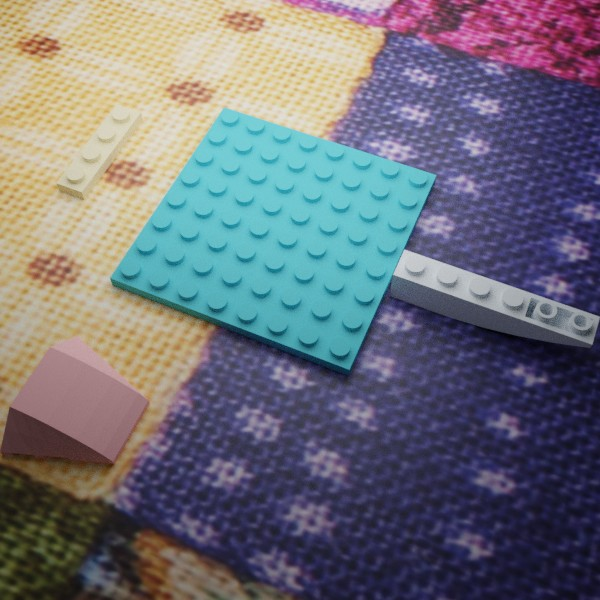lego: (109, 107, 436, 375), (389, 249, 600, 348), (0, 335, 149, 464), (56, 104, 142, 199)
